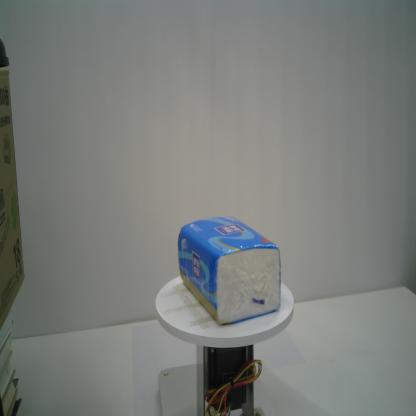Tissue: (176, 214, 282, 327)
